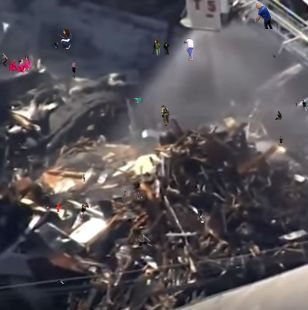Human: (152, 38, 180, 56), (254, 3, 273, 29), (9, 53, 31, 75), (50, 28, 73, 49), (182, 38, 194, 61), (138, 232, 154, 248), (160, 105, 170, 126), (69, 60, 79, 78), (295, 100, 307, 111), (197, 207, 205, 223), (0, 53, 8, 69), (81, 203, 89, 218), (46, 204, 59, 212), (130, 98, 144, 105), (278, 136, 285, 148), (274, 111, 282, 120), (135, 192, 143, 200), (57, 279, 67, 284), (122, 191, 126, 201), (196, 133, 200, 140), (83, 174, 86, 182), (190, 208, 194, 212), (272, 54, 276, 58), (18, 143, 21, 147), (19, 121, 21, 125), (286, 189, 288, 193), (57, 24, 58, 27)
